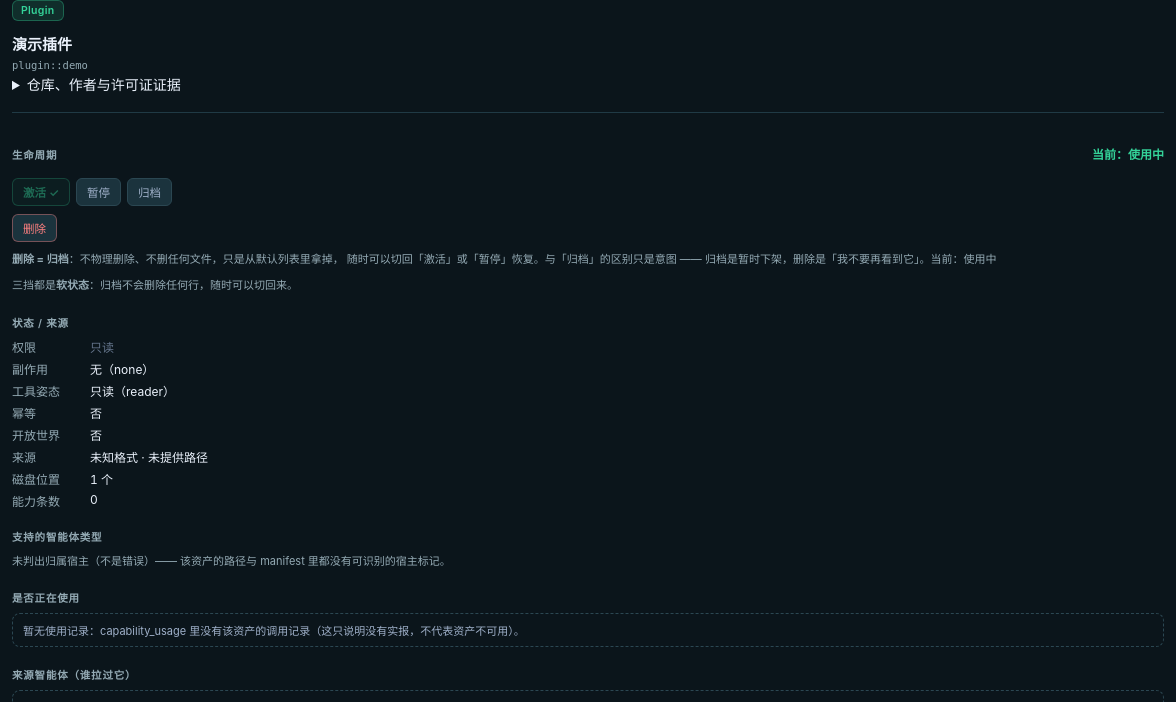
it: DetailPane · 支持的智能体 / 是否使用 / 三态切换 › 命令不存在时优雅降级：三个按钮置灰 + 一行明确提示，不白屏
The width and height of the screenshot is (1176, 702).
What coordinates should you click on to do the following:
click the button with class "life-btn" showing "暂停"
I would click on:
 (99, 192)
Its box is [76,178,121,206].
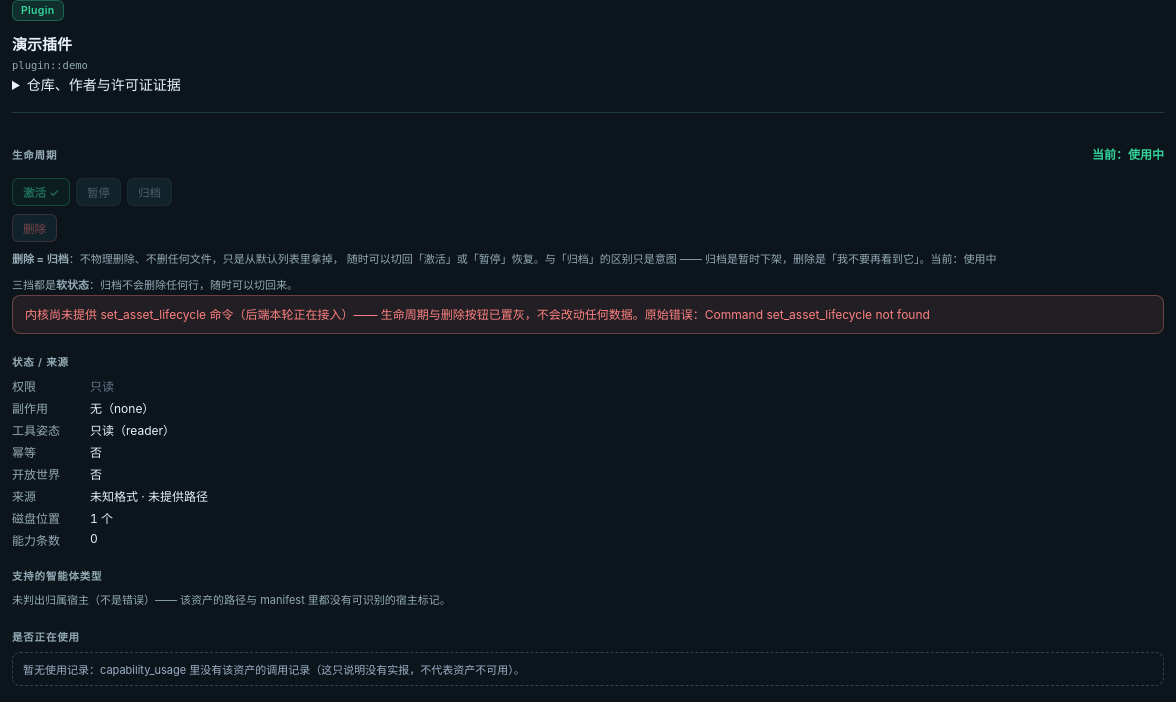
Check: the text "内核尚未提供 set_asset_lifecycle" is shown, box [25,307,930,322]
Check: the button with class "life-btn" showing "暂停" is disabled, box [76,178,121,206]
Check: the button with class "life-btn" showing "归档" is disabled, box [127,178,172,206]
